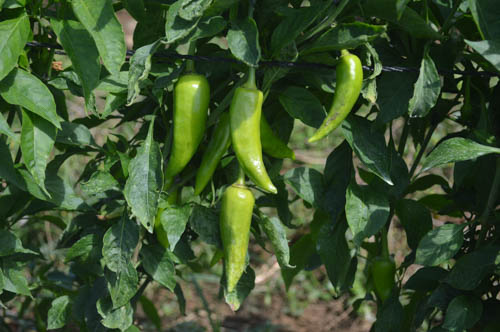ChiliPepper: (309, 56, 366, 143), (232, 87, 277, 193), (216, 188, 255, 295), (170, 75, 205, 182), (193, 113, 233, 192), (371, 261, 397, 303)
